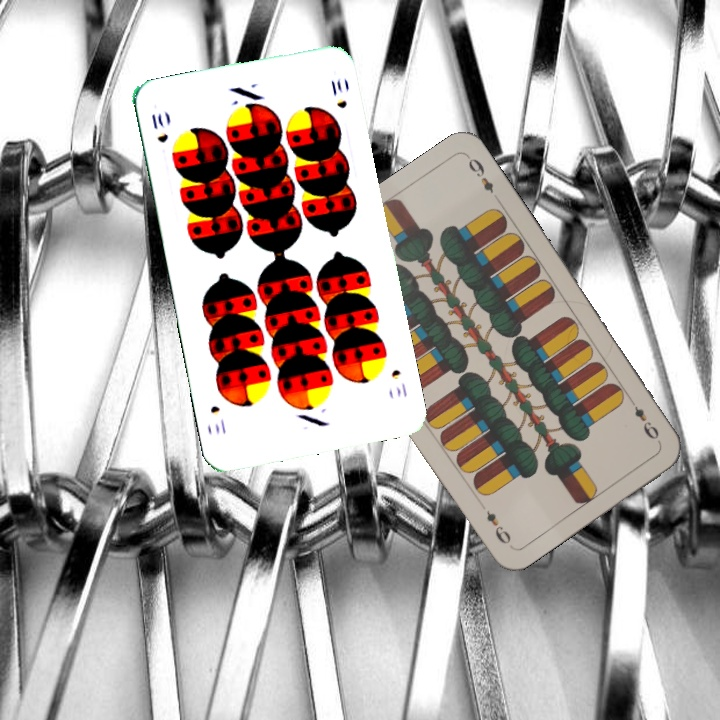E9: (629, 402, 662, 443)
S10: (147, 109, 171, 146), (387, 365, 410, 400)
